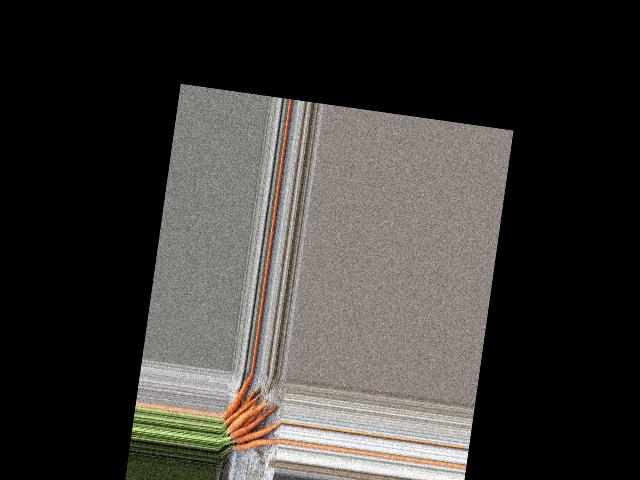carrot: (222, 370, 255, 425)
